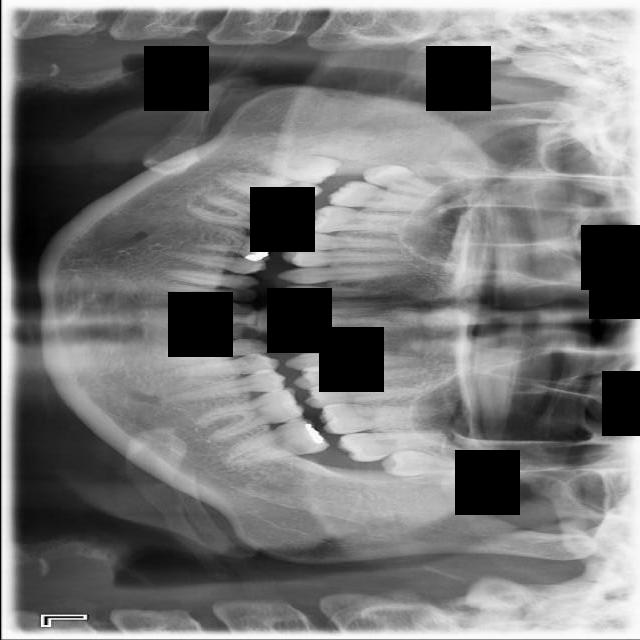3M ESPE Implant: (359, 157, 451, 203)
52: (273, 408, 331, 468), (255, 378, 309, 434), (241, 235, 280, 262)
73: (21, 622, 29, 630)
BioHorizons Implant: (335, 430, 445, 463)
BioLife Implant: (380, 449, 475, 477)
Blue Sky Bio Implant: (218, 413, 330, 470)
Caries: (325, 179, 452, 213)
Implant: (214, 165, 324, 217)
Keystone Dental Implant: (249, 146, 342, 190)
